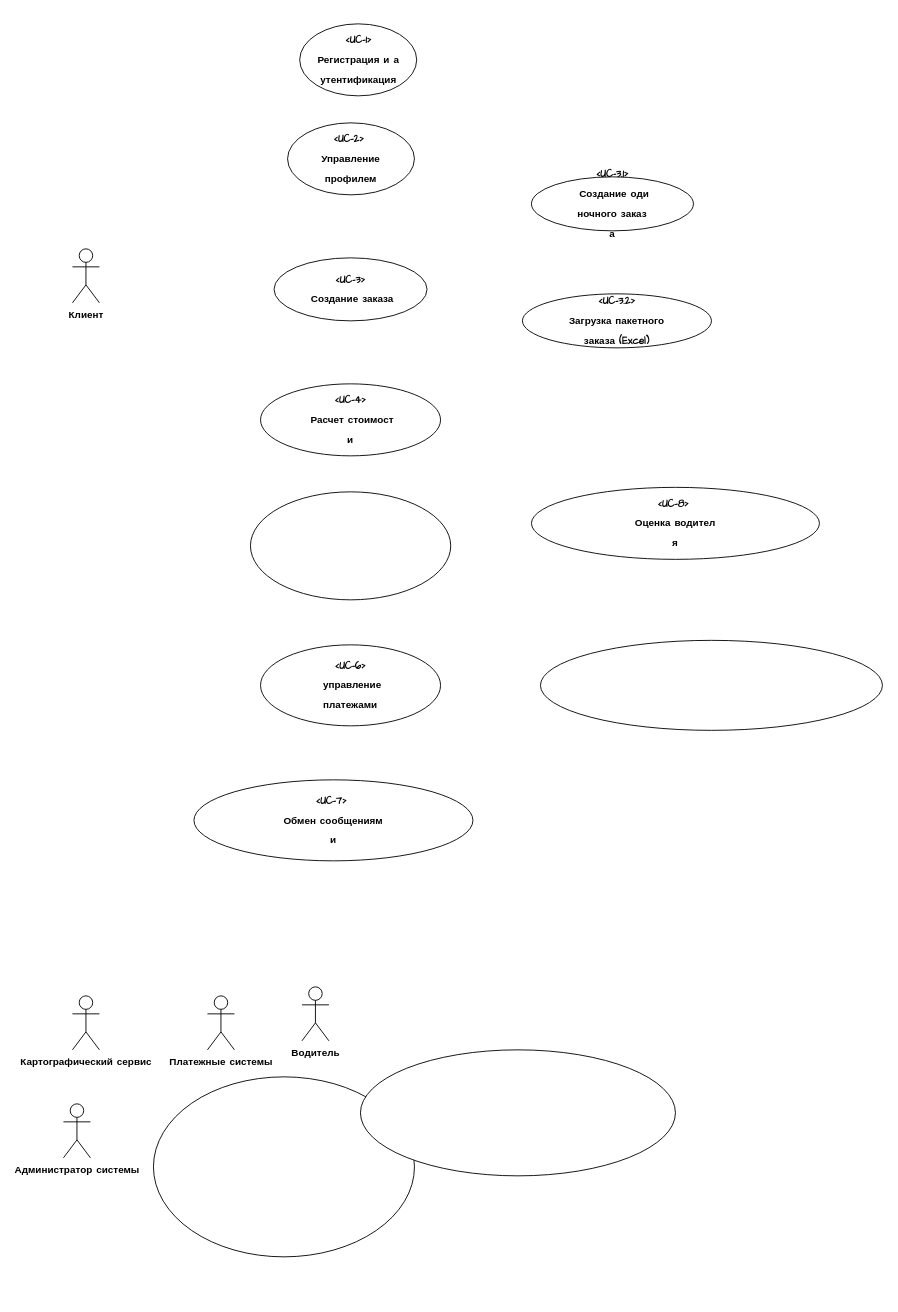
Some shapes in this 898 by 1312 pixel diagram are drawn without their labels. Here are the shapes that lost their labels. From the top down, the centre of each, then its label:
At (x=350, y=545): "<UC-5> Отслеживание заказа".
At (x=711, y=684): "<UC-10> Управление адресами".
At (x=517, y=1112): "<UC-11> Получение уведомлений".
At (x=283, y=1166): "<UC-9> Просмотр истории заказов".
